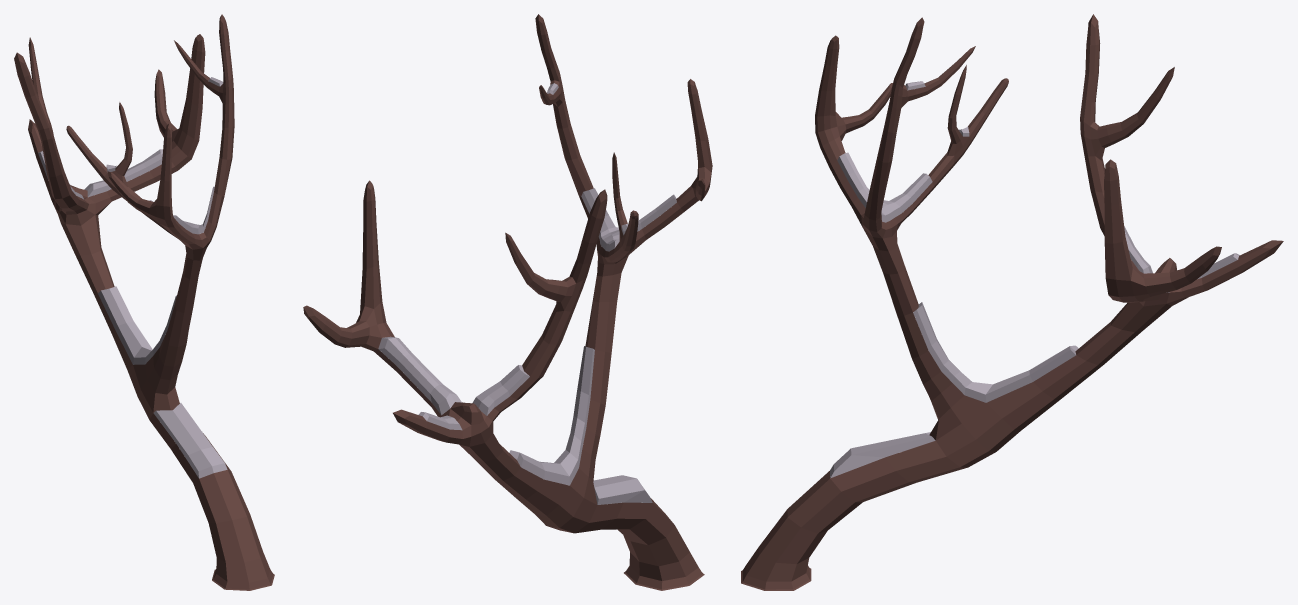
Rendered from Willow_Dead_Snow_2-transformed.glb.
3 renders of one model, left to right at view 1: azimuth 30°, elevation 25°; view 2: azimuth 150°, elevation 25°; view 3: azimuth 270°, elevation 25°, orthographic. The views are drawn at different scales.
Visible parts, largest first — view 1: Willow_Dead_Snow_2; view 2: Willow_Dead_Snow_2; view 3: Willow_Dead_Snow_2.
Boxes of the visible parts, x1,y1,x2,y2 form: Willow_Dead_Snow_2: (14, 14, 274, 590); Willow_Dead_Snow_2: (303, 14, 712, 590); Willow_Dead_Snow_2: (741, 14, 1283, 590).
Size of the model in its own units: 1.17 by 2.84 by 2.4.
